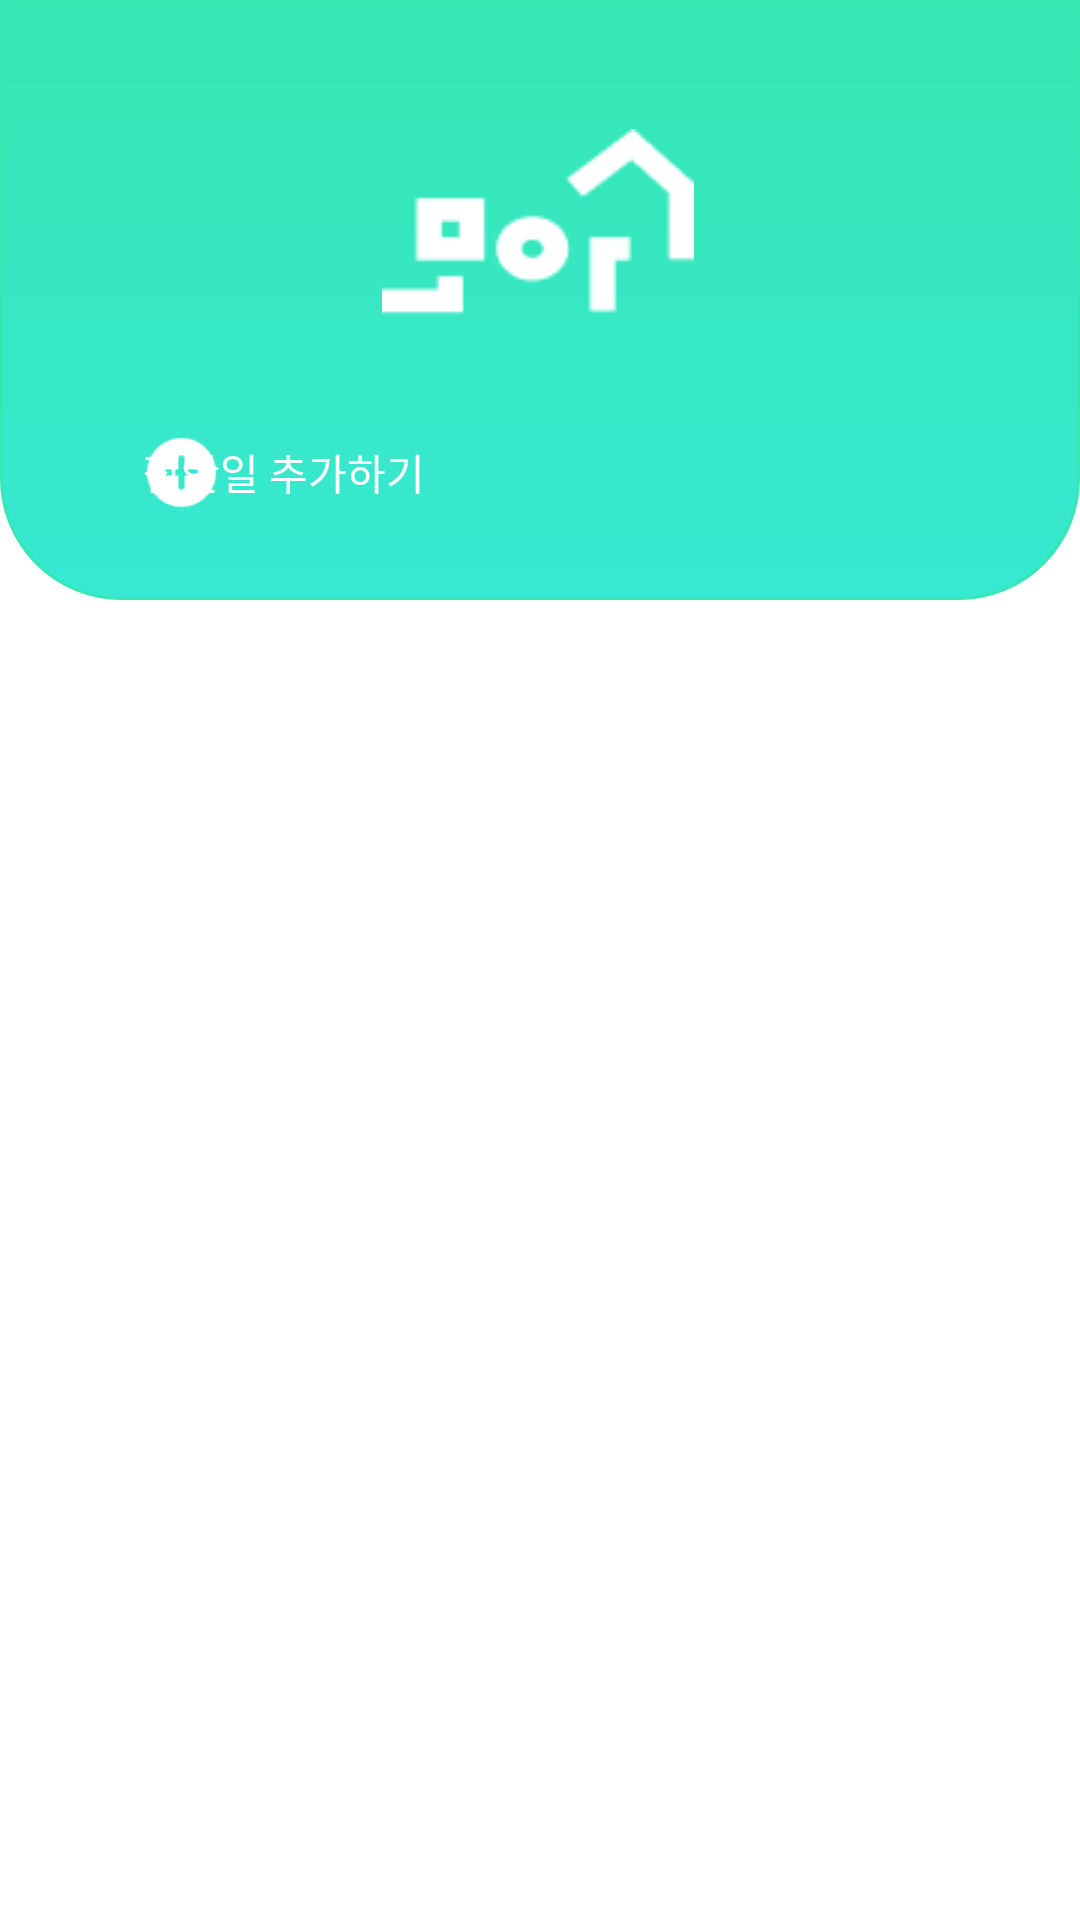

Where icons sit on this 1080 x 1920 app screen, as [left=x1, top=y1, right=x2, bottom=y2]:
plus: [left=144, top=438, right=219, bottom=507]
